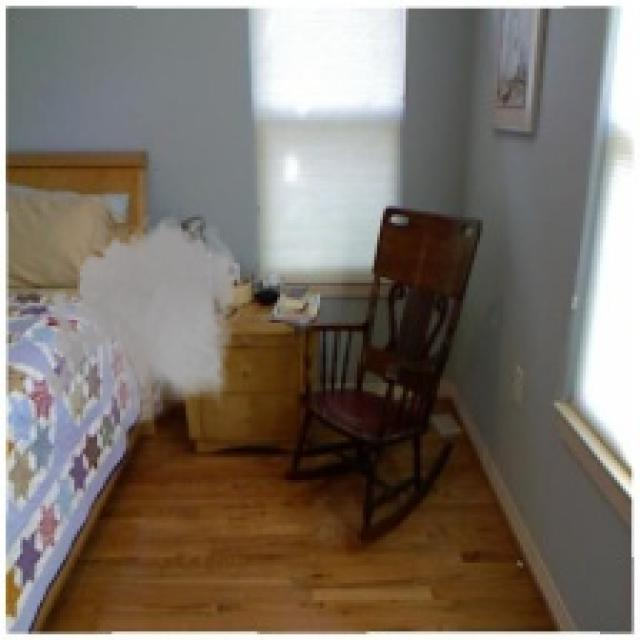smoke: (37, 209, 246, 437)
